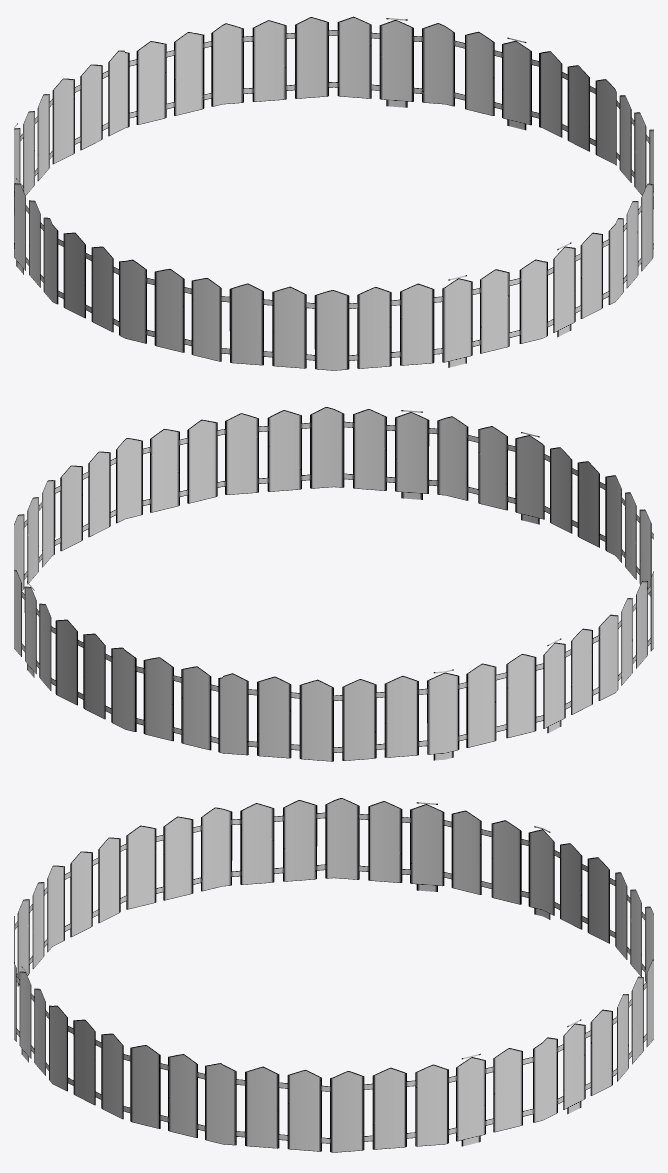
The model's file is fence.FBX.
3 views of the same model, one above another, from view 1: azimuth 30°, elevation 25°; view 2: azimuth 150°, elevation 25°; view 3: azimuth 270°, elevation 25° (orthographic).
Parts seen in each view (by area): view 1: Cylinder001; view 2: Cylinder001; view 3: Cylinder001.
Part boxes in pixels (box(x1,y1,x2,y2)): Cylinder001: box(14, 16, 653, 370); Cylinder001: box(14, 407, 653, 761); Cylinder001: box(14, 798, 653, 1152).
Size of the model in its own units: 10 by 1.5 by 9.85.
1 material, 1 textured.
